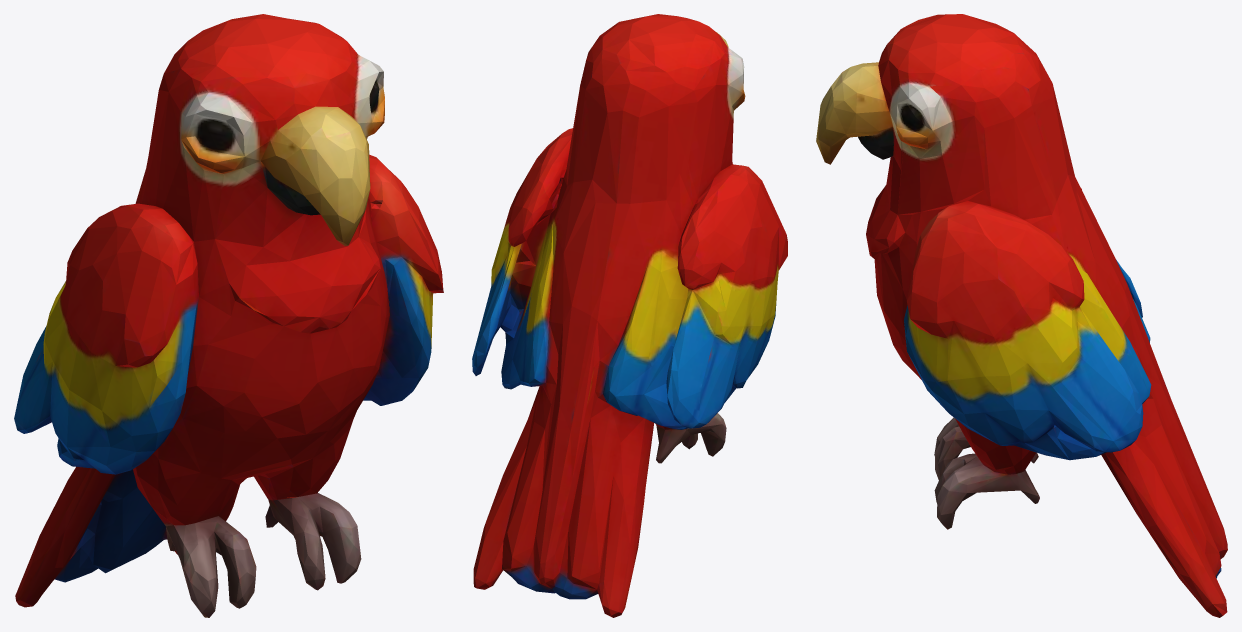
Rendered from parrot.glb.
3 views of the same model, side by side, from view 1: azimuth 30°, elevation 25°; view 2: azimuth 150°, elevation 25°; view 3: azimuth 270°, elevation 25° (orthographic). The views are drawn at different scales.
Parts seen in each view (by area): view 1: geometry_0; view 2: geometry_0; view 3: geometry_0.
Part boxes in pixels (x1=…): geometry_0: x1=14, y1=14, x2=443, y2=617; geometry_0: x1=472, y1=14, x2=787, y2=617; geometry_0: x1=816, y1=14, x2=1227, y2=617.
Bounding box in the file's own units: 0.5324 × 0.9962 × 0.6724.
Materials: 1 (1 with a texture image).
